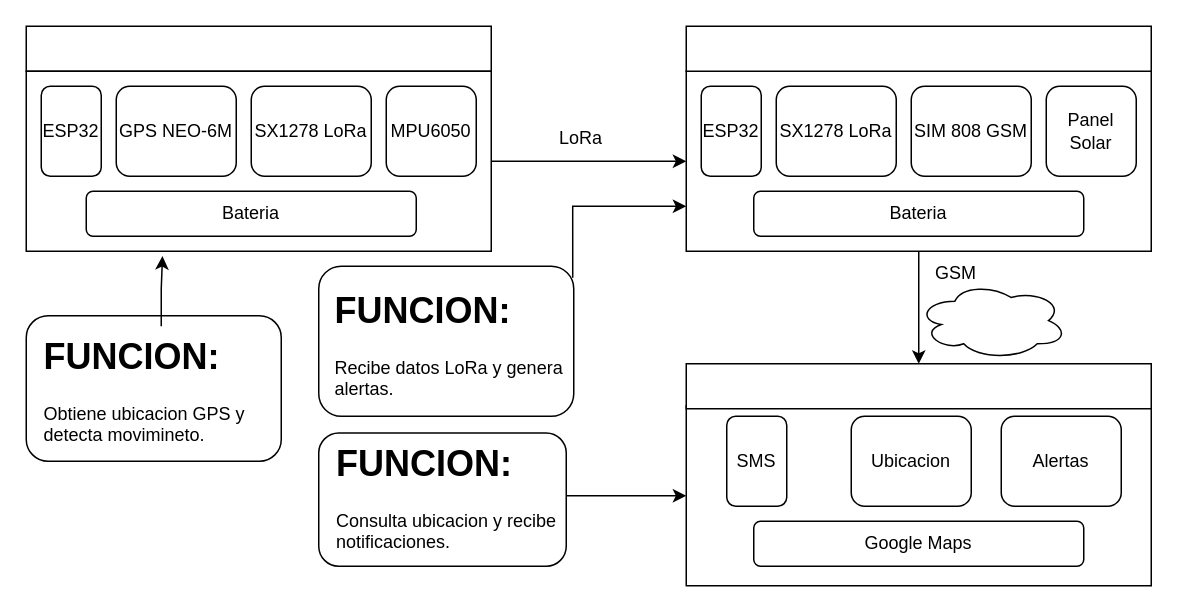
Some shapes in this 1178 by 612 pixel diagram are drawn without their labels. Here are the shapes that lost their labels. From the top down, the box of each, then its label:
(25, 25, 491, 71): Nodo Animal (Collar Inteligente)
(685, 25, 1151, 71): Gateway de Comunicacion
(916, 280, 1067, 359): Red Celular
(685, 362, 1151, 409): Usuario
